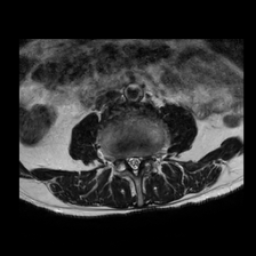CCS_normal: (131, 150, 137, 180)
LFS_severe_stenosis: (144, 151, 149, 165)
LLS_stenosis: (137, 151, 143, 169)
RFS_severe_stenosis: (118, 151, 125, 168)
RLS_stenosis: (125, 151, 131, 170)
